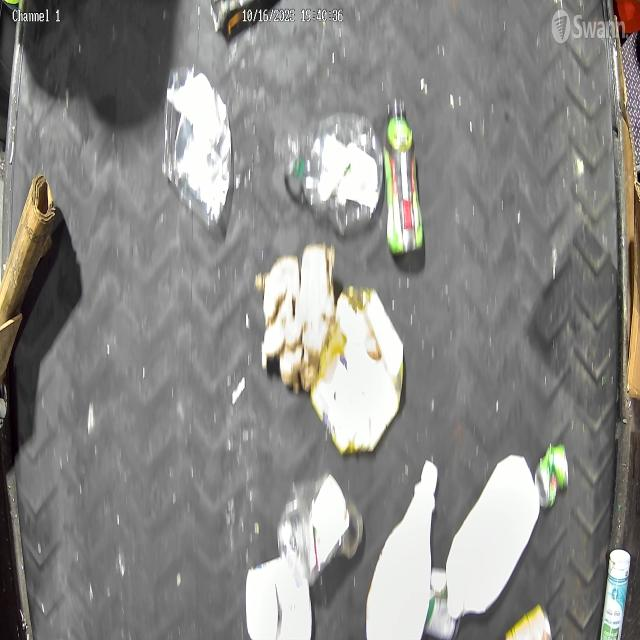can: (534, 442, 570, 509), (503, 601, 552, 640)
milk_jug: (445, 454, 540, 620)
plastic_bottle: (280, 111, 384, 232), (160, 66, 235, 228), (277, 470, 365, 586)
